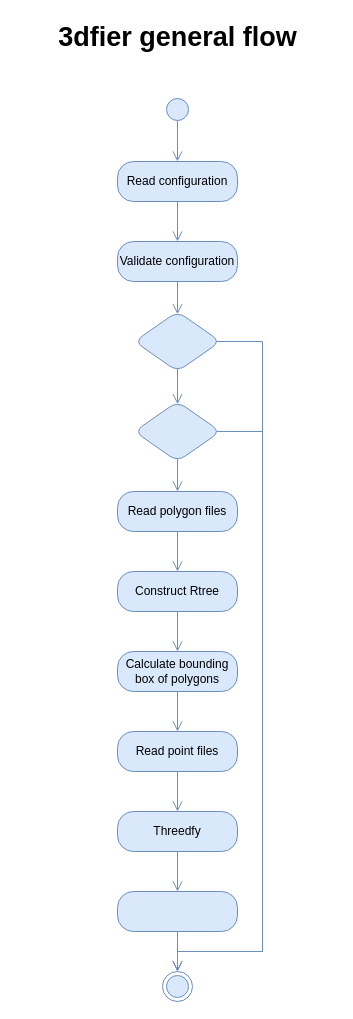
This 353x1019 diagram has some shape labels left out. The box of each missing label's shape, as (x1, y1, x2, y2) in pixels:
Input files exist?: (134, 400, 220, 462)
Valid?: (134, 310, 220, 372)
Writing model: (116, 890, 238, 932)
